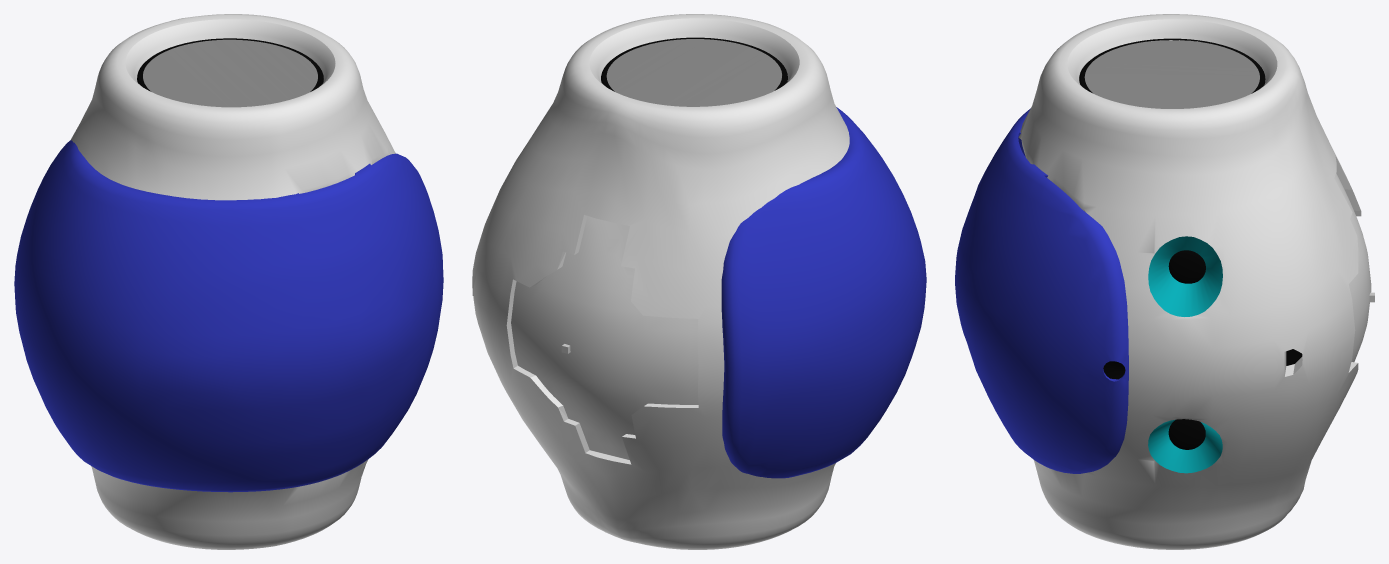
The model's file is HeadPitch.dae.
3 views of the same model, side by side, from view 1: azimuth 30°, elevation 25°; view 2: azimuth 150°, elevation 25°; view 3: azimuth 270°, elevation 25° (orthographic).
Parts seen in each view (by area): view 1: Head; view 2: Head; view 3: Head.
Part boxes in pixels (box(x1,y1,x2,y2)): Head: box(14, 14, 443, 549); Head: box(472, 14, 926, 549); Head: box(955, 14, 1371, 549).
Bounding box in the file's own units: 120 × 115 × 133.
